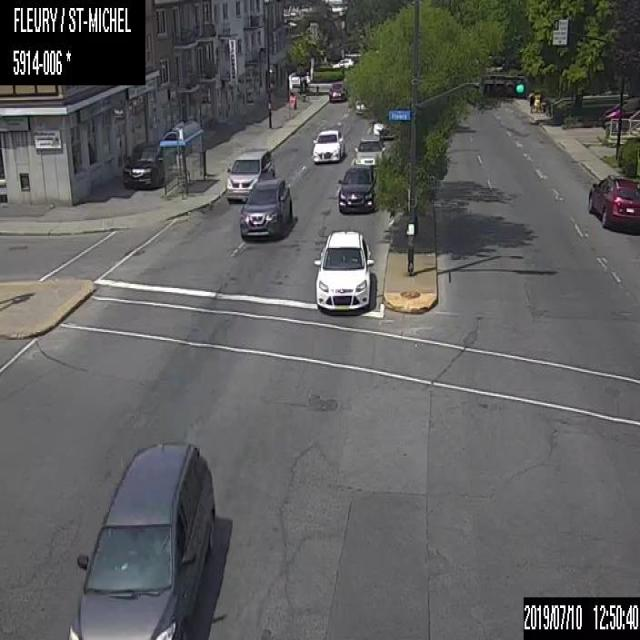pedestrian: (528, 92, 535, 112)
vehicle: (66, 442, 216, 638), (312, 228, 374, 311), (238, 178, 293, 240), (587, 172, 639, 231), (224, 148, 275, 201), (121, 140, 170, 188), (336, 163, 379, 212), (600, 97, 638, 128), (311, 128, 344, 163), (354, 135, 386, 166), (371, 118, 394, 138), (328, 82, 347, 102), (332, 57, 354, 69), (354, 96, 368, 114)
